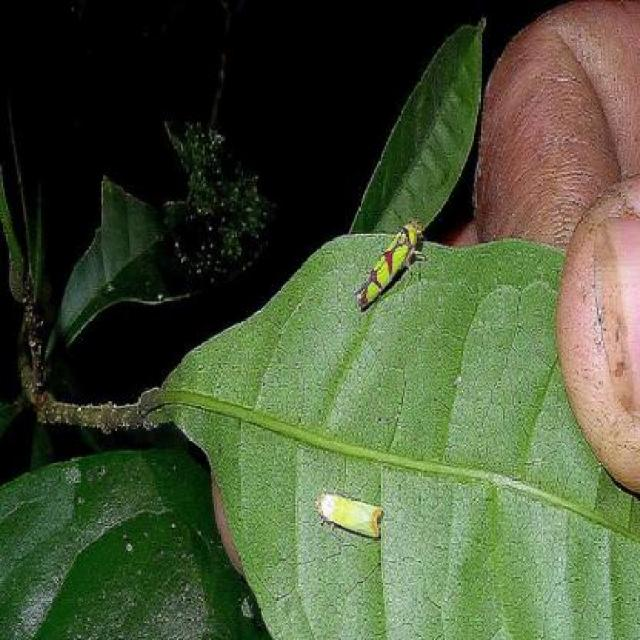green-leafhopper: (358, 222, 429, 310), (311, 476, 386, 552)
